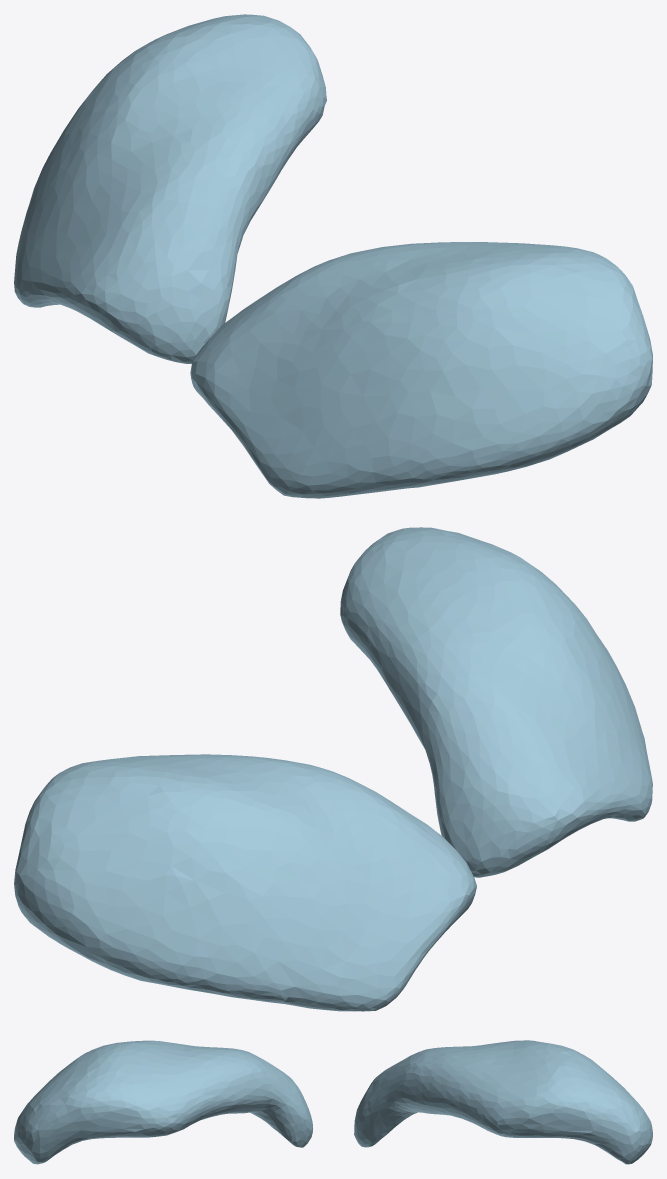
3 views of the same model, one above another, from view 1: azimuth 30°, elevation 25°; view 2: azimuth 150°, elevation 25°; view 3: azimuth 270°, elevation 25° (orthographic). The views are drawn at different scales.
Parts seen in each view (by area): view 1: 754.obj; view 2: 754.obj; view 3: 754.obj.
Part boxes in pixels (x1=…): 754.obj: x1=14, y1=14, x2=652, y2=498; 754.obj: x1=14, y1=527, x2=652, y2=1011; 754.obj: x1=14, y1=1040, x2=652, y2=1164.
Size of the model in its own units: 2215 by 1343 by 5456.
